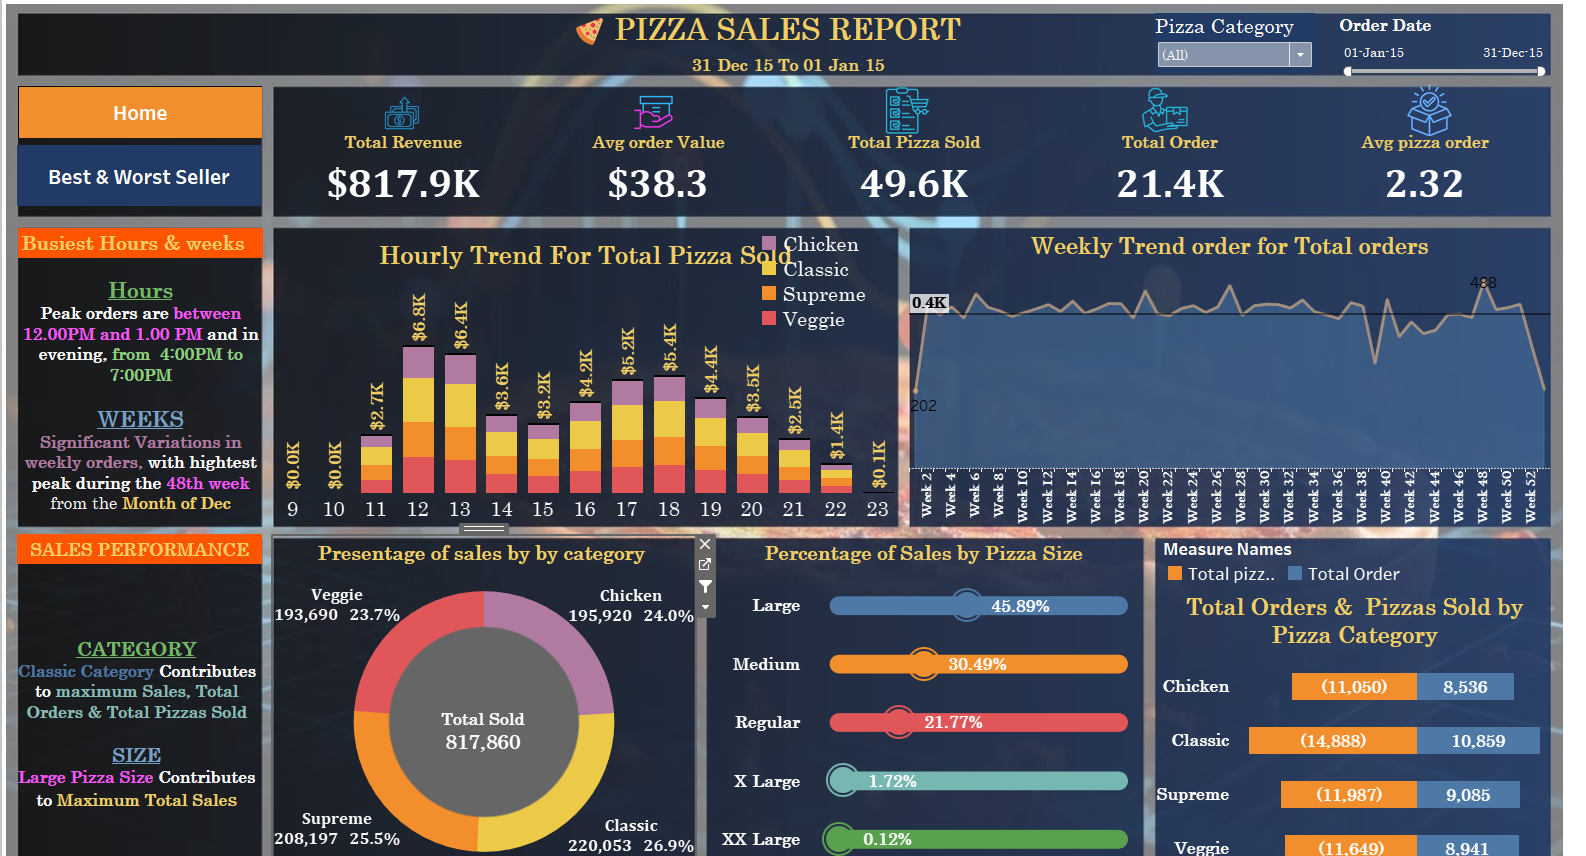

What the dashboard file says about the page in this screenshot:
{"tool":"tableau","page":{"name":"Home","canvas":[1600,900],"ordinal":1},"visuals":[{"type":"image","param":"C:/Users/DELL/Pictures/Internship/pizza-SQL&tableau/Pizza Tableau 1.jpg","box":[8,8,1584,884]},{"type":"filter","title":"Hourly Trend for total pizza Sold","param":"[federated.1cvowom1pjmumi1eaod2r02502ip].[none:pizza_category:nk]","box":[1161,21,160,60]},{"type":"text","box":[617,22,353,29]},{"type":"filter","title":"Hourly Trend for total pizza Sold","param":"[federated.1cvowom1pjmumi1eaod2r02502ip].[none:order_date:qk]","box":[1345,22,211,62]},{"type":"image","param":"C:/Users/DELL/Pictures/Internship/pizza-SQL&tableau/Pizza Sales Images/pizza-sli","box":[575,25,40,28]},{"type":"worksheet","title":"Date Range","mark":"Automatic","box":[620,53,347,39]},{"type":"image","param":"C:/Users/DELL/Pictures/Internship/pizza-SQL&tableau/Pizza Sales Images/order (1)","box":[1406,92,58,52]},{"type":"dashboard-object","box":[24,94,244,52]},{"type":"image","param":"C:/Users/DELL/Pictures/Internship/pizza-SQL&tableau/Pizza Sales Images/order-del","box":[884,94,58,48]},{"type":"image","param":"C:/Users/DELL/Pictures/Internship/pizza-SQL&tableau/Pizza Sales Images/delivery-","box":[1145,94,52,47]},{"type":"image","param":"C:/Users/DELL/Pictures/Internship/pizza-SQL&tableau/Pizza Sales Images/shipping-","box":[632,98,55,44]},{"type":"image","param":"C:/Users/DELL/Pictures/Internship/pizza-SQL&tableau/Pizza Sales Images/profit-gr","box":[366,101,84,39]},{"type":"worksheet","title":"KPI","mark":"Automatic","box":[281,140,1278,80]},{"type":"dashboard-object","box":[23,153,244,61]},{"type":"worksheet","title":"Weekly Trend order for total pizza sold","mark":"Line","rows":["Calculation_926052741888450562","Calculation_926052741888450562"],"cols":["order_date"],"box":[915,235,641,298]},{"type":"text","box":[24,236,245,30]},{"type":"legend","title":"Hourly Trend for total pizza Sold","param":"[federated.1cvowom1pjmumi1eaod2r02502ip].[none:pizza_category:nk]","box":[763,239,208,111]},{"type":"worksheet","title":"Hourly Trend for total pizza Sold","mark":"Bar","rows":["Calculation_926052741888315393","Calculation_926052741888315393"],"cols":["order_time"],"box":[278,243,627,287]},{"type":"text","box":[24,261,245,269]},{"type":"text","box":[23,542,245,30]},{"type":"worksheet","title":"Presentage of sales by by category ","mark":"Pie","rows":["Calculation_940407897618132993","Calculation_940407897618153475"],"box":[279,544,422,331]},{"type":"worksheet","title":"Percentage of Sales by Pizza Size","mark":"Line","rows":["pizza_size"],"box":[711,544,437,332]},{"type":"legend","title":"Total Orders &  Pizzas Sold by Pizza Category","param":"[federated.1cvowom1pjmumi1eaod2r02502ip].[:Measure Names]","box":[1169,545,356,64]},{"type":"text","box":[20,573,245,302]},{"type":"worksheet","title":"Total Orders &  Pizzas Sold by Pizza Category","mark":"Automatic","rows":["pizza_category"],"box":[1160,596,401,287]}]}

Visuals, with their boxes on the page's 1600x900 design canvas (x1, y1, x2, y2). These are canvas units, not pixel positions in the 1586x856 screenshot, which may show the page scaled, cropped or inside an application window:
image: pyautogui.locateOnScreen(8, 8, 1592, 892)
"Hourly Trend for total pizza Sold" filter: pyautogui.locateOnScreen(1161, 21, 1321, 81)
text: pyautogui.locateOnScreen(617, 22, 970, 51)
"Hourly Trend for total pizza Sold" filter: pyautogui.locateOnScreen(1345, 22, 1556, 84)
image: pyautogui.locateOnScreen(575, 25, 615, 53)
"Date Range" worksheet: pyautogui.locateOnScreen(620, 53, 967, 92)
image: pyautogui.locateOnScreen(1406, 92, 1464, 144)
dashboard-object: pyautogui.locateOnScreen(24, 94, 268, 146)
image: pyautogui.locateOnScreen(884, 94, 942, 142)
image: pyautogui.locateOnScreen(1145, 94, 1197, 141)
image: pyautogui.locateOnScreen(632, 98, 687, 142)
image: pyautogui.locateOnScreen(366, 101, 450, 140)
"KPI" worksheet: pyautogui.locateOnScreen(281, 140, 1559, 220)
dashboard-object: pyautogui.locateOnScreen(23, 153, 267, 214)
"Weekly Trend order for total pizza sold" worksheet (Line marks): pyautogui.locateOnScreen(915, 235, 1556, 533)
text: pyautogui.locateOnScreen(24, 236, 269, 266)
"Hourly Trend for total pizza Sold" legend: pyautogui.locateOnScreen(763, 239, 971, 350)
"Hourly Trend for total pizza Sold" worksheet (Bar marks): pyautogui.locateOnScreen(278, 243, 905, 530)
text: pyautogui.locateOnScreen(24, 261, 269, 530)
text: pyautogui.locateOnScreen(23, 542, 268, 572)
"Presentage of sales by by category " worksheet (Pie marks): pyautogui.locateOnScreen(279, 544, 701, 875)
"Percentage of Sales by Pizza Size" worksheet (Line marks): pyautogui.locateOnScreen(711, 544, 1148, 876)
"Total Orders &  Pizzas Sold by Pizza Category" legend: pyautogui.locateOnScreen(1169, 545, 1525, 609)
text: pyautogui.locateOnScreen(20, 573, 265, 875)
"Total Orders &  Pizzas Sold by Pizza Category" worksheet: pyautogui.locateOnScreen(1160, 596, 1561, 883)
